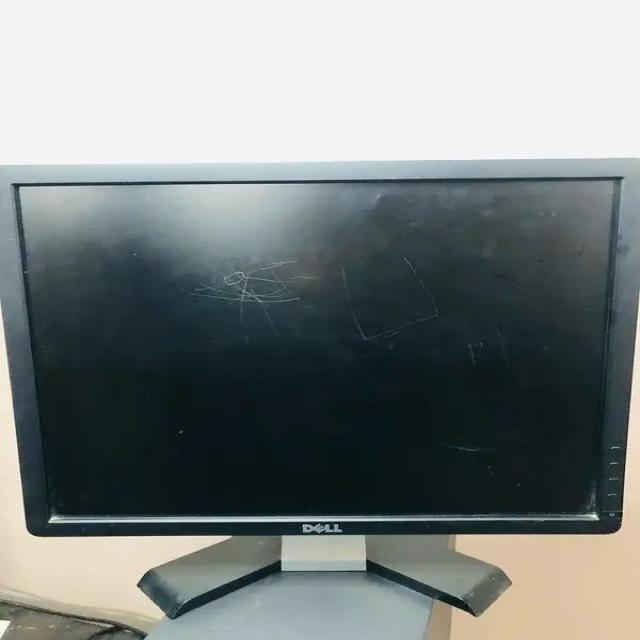electronic: (0, 132, 640, 572)
